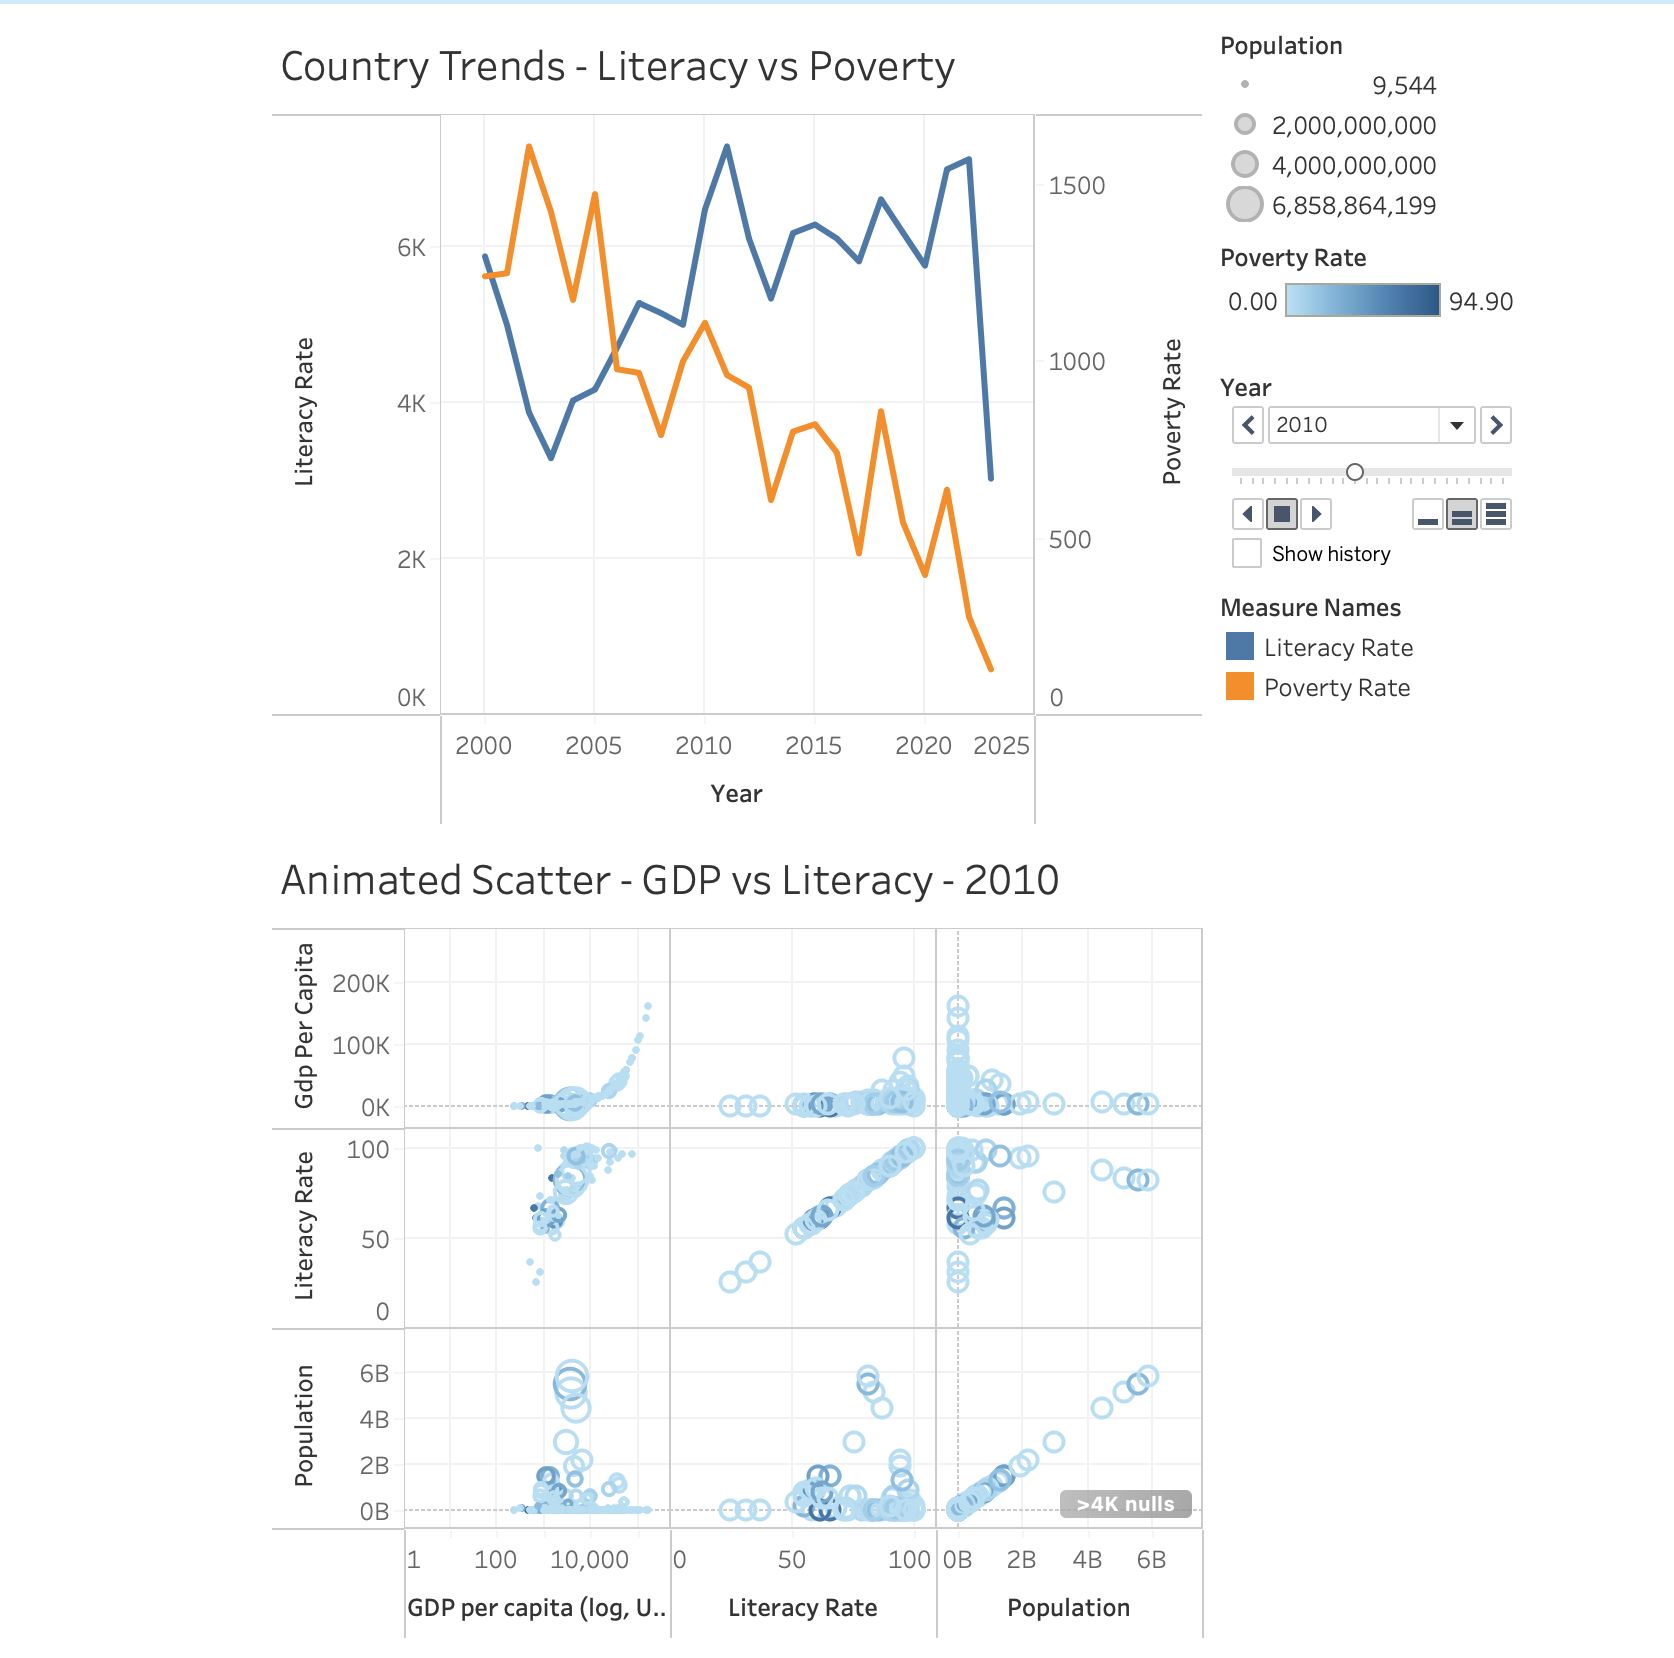

Layout of this report page (visuals, bound fields, positions):
{"tool":"tableau","page":{"name":"Dashboard 1","canvas":[650,860],"ordinal":0},"visuals":[{"type":"worksheet","title":"Country Trends - Literacy vs Poverty","mark":"Automatic","rows":["literacy_rate","poverty_rate"],"cols":["year"],"box":[8,8.3,474,421.7]},{"type":"legend","title":"Animated Scatter - GDP vs Literacy","param":"[federated.057o99e0gztiqy15avlv71y8xhvs].[sum:population:qk]","box":[482,8.3,160,109.8]},{"type":"legend","title":"Animated Scatter - GDP vs Literacy","param":"[federated.057o99e0gztiqy15avlv71y8xhvs].[sum:poverty_rate:qk]","box":[482,118.1,160,67.3]},{"type":"currpage","title":"Animated Scatter - GDP vs Literacy","box":[482,185.5,160,114]},{"type":"legend","title":"Country Trends - Literacy vs Poverty","param":"[federated.057o99e0gztiqy15avlv71y8xhvs].[:Measure Names]","box":[482,299.4,160,68.4]},{"type":"worksheet","title":"Animated Scatter - GDP vs Literacy","mark":"Automatic","rows":["gdp_per_capita","literacy_rate","population"],"cols":["gdp_per_capita","literacy_rate","population"],"box":[8,430,474,421.7]}]}

Visuals, with their boxes on the page's 650x860 design canvas (x1, y1, x2, y2). These are canvas units, not pixel positions in the 1674x1658 screenshot, which may show the page scaled, cropped or inside an application window:
"Country Trends - Literacy vs Poverty" worksheet: detection(8, 8, 482, 430)
"Animated Scatter - GDP vs Literacy" legend: detection(482, 8, 642, 118)
"Animated Scatter - GDP vs Literacy" legend: detection(482, 118, 642, 185)
"Animated Scatter - GDP vs Literacy" currpage: detection(482, 186, 642, 300)
"Country Trends - Literacy vs Poverty" legend: detection(482, 299, 642, 368)
"Animated Scatter - GDP vs Literacy" worksheet: detection(8, 430, 482, 852)
